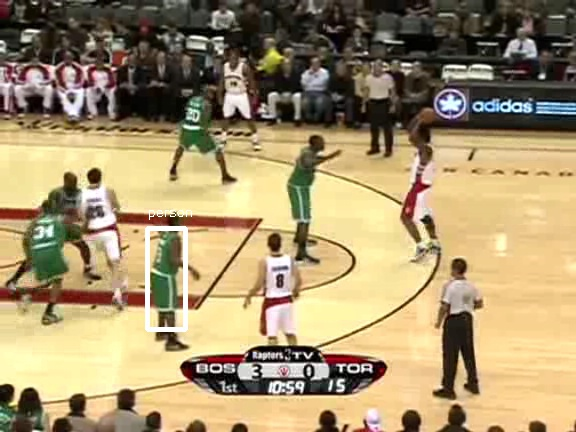person: (150, 233, 184, 314), (149, 233, 183, 314), (151, 233, 185, 314), (150, 232, 184, 313), (150, 234, 184, 315)
target_negative: (3, 286, 522, 407), (15, 5, 449, 120), (295, 172, 496, 211), (295, 319, 345, 410), (391, 350, 471, 382), (495, 320, 520, 398)
